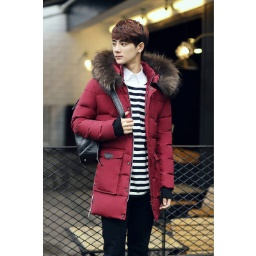face: (107, 19, 146, 66)
